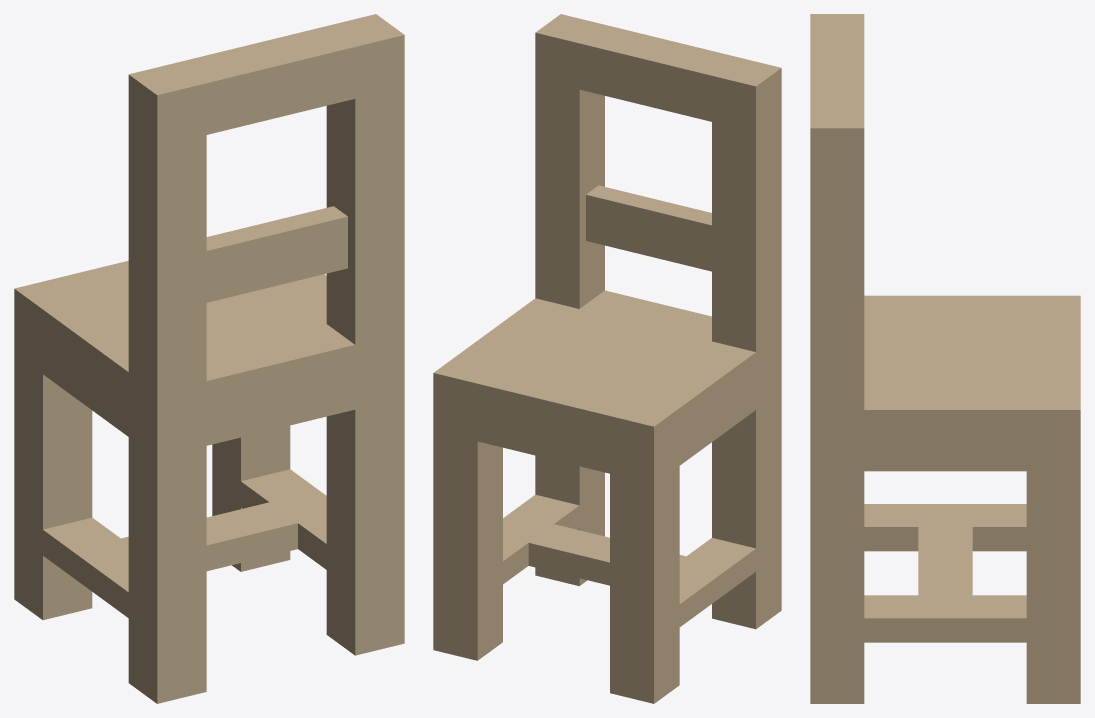
Rendered from furn_chair.glb.
The picture shows the model from 3 angles, left to right: view 1: azimuth 30°, elevation 25°; view 2: azimuth 150°, elevation 25°; view 3: azimuth 270°, elevation 25°; orthographic projection. The views are drawn at different scales.
Parts seen in each view (by area): view 1: furn_chair; view 2: furn_chair; view 3: furn_chair.
Boxes of the visible parts, left/top/right/bottom form: furn_chair: left=14, top=14, right=404, bottom=703; furn_chair: left=433, top=14, right=781, bottom=703; furn_chair: left=810, top=14, right=1080, bottom=703.
Size of the model in its own units: 0.4 by 0.94 by 0.4.
